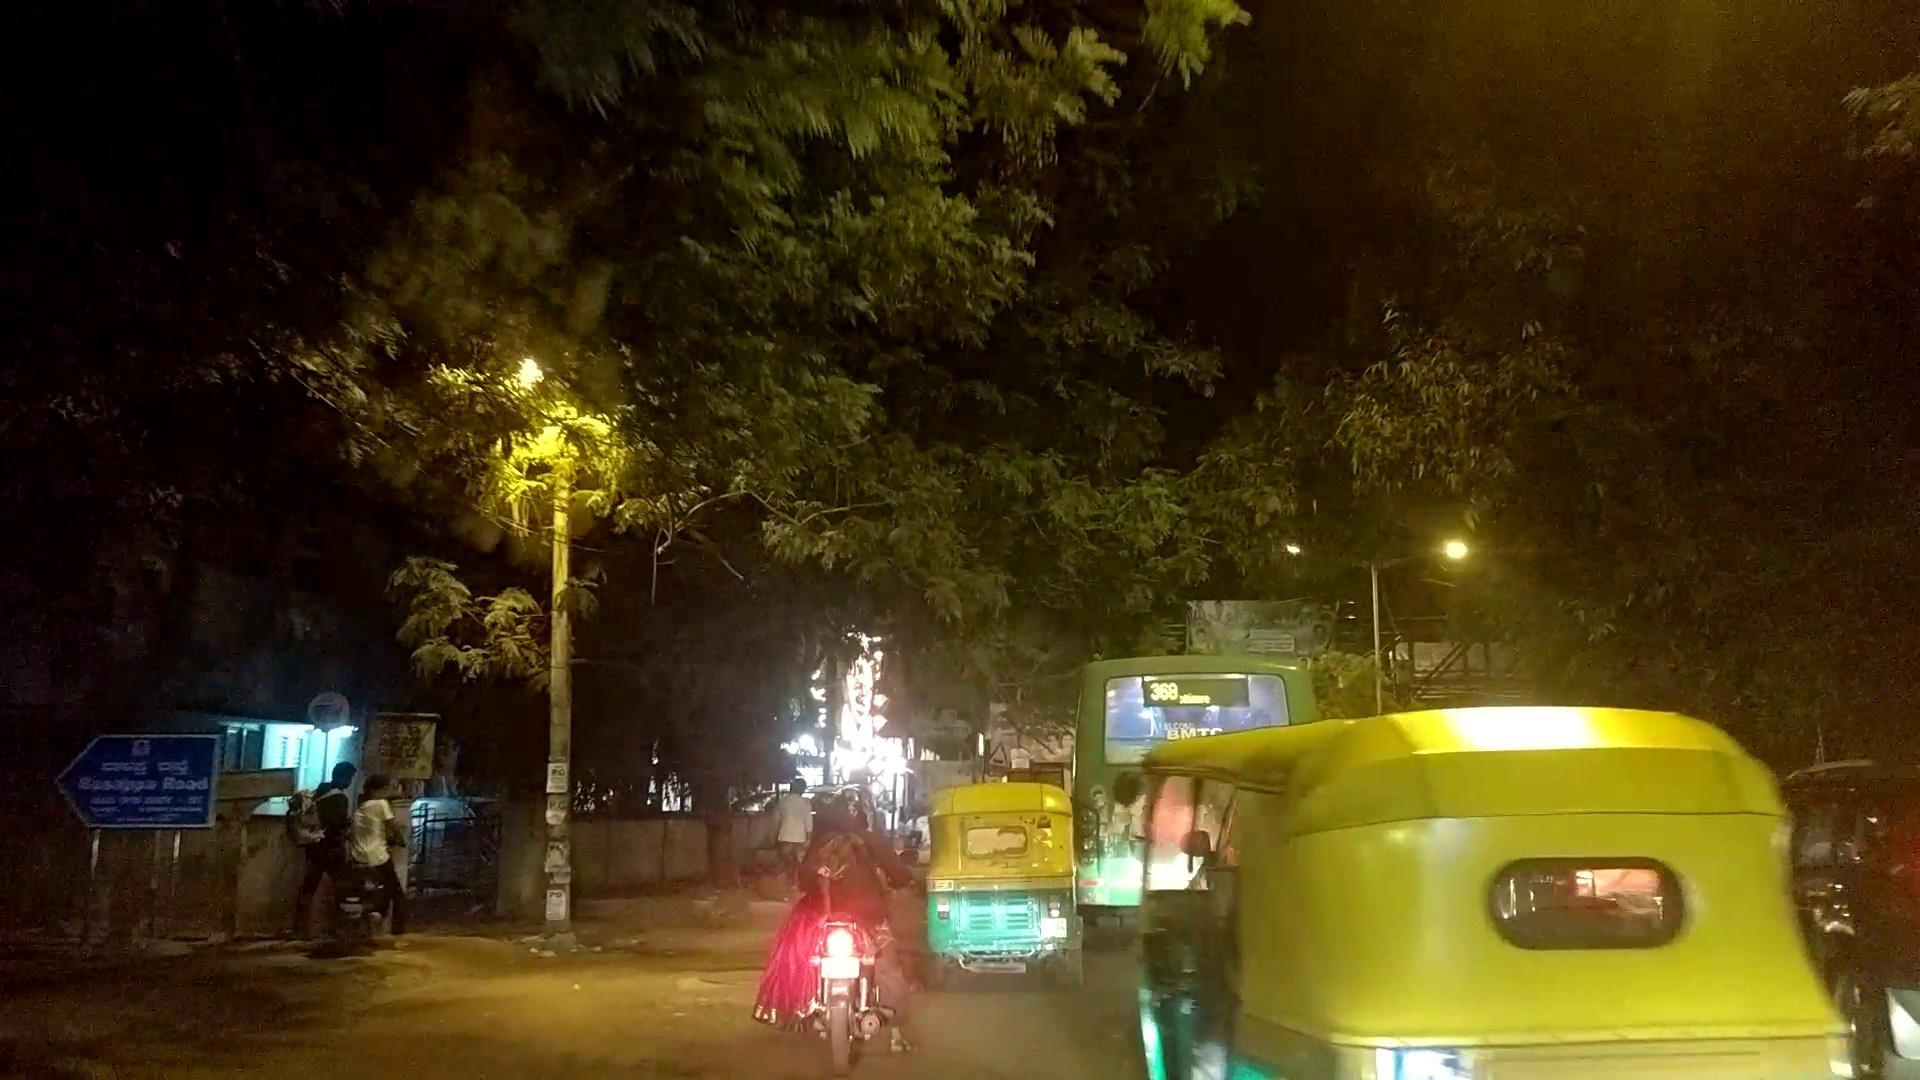on: (160, 0, 1815, 1080)
